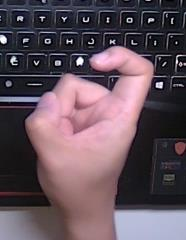anticlockwise: (21, 43, 157, 204)
